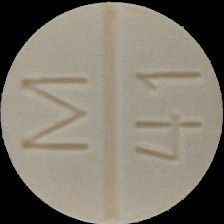51079-104: (0, 0, 224, 224)
